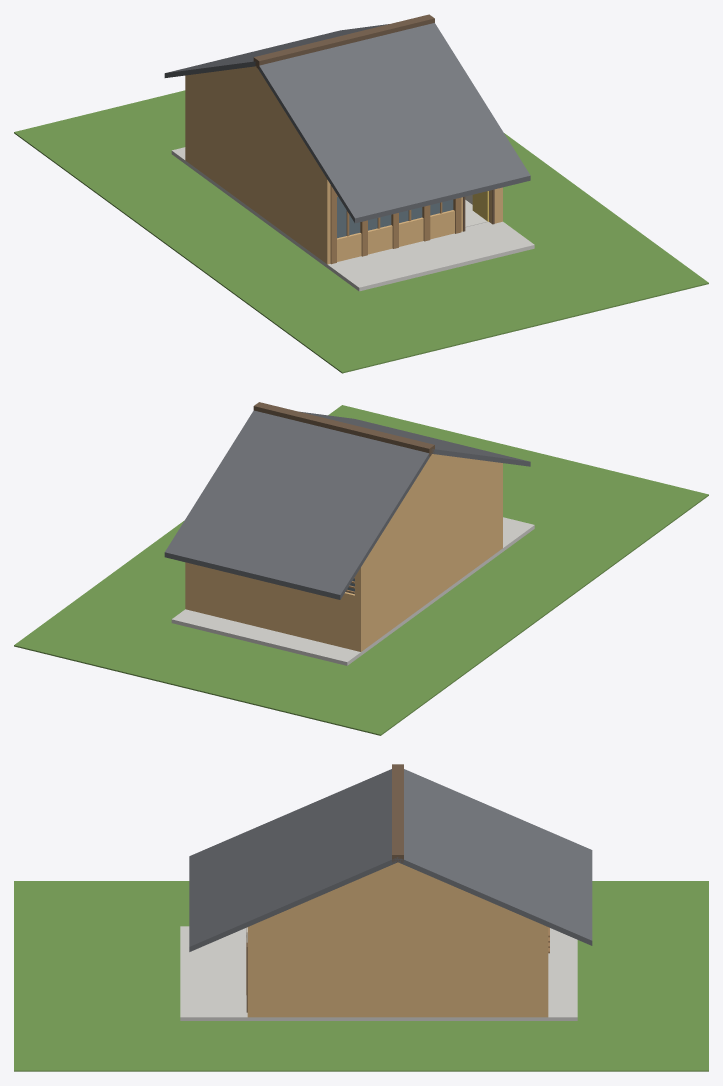
Rendered from sala_sistemas2.glb.
3 views of the same model, one above another, from view 1: azimuth 30°, elevation 25°; view 2: azimuth 150°, elevation 25°; view 3: azimuth 270°, elevation 25° (orthographic). The views are drawn at different scales.
Parts seen in each view (by area): view 1: Sala de sistemas 2; view 2: Sala de sistemas 2; view 3: Sala de sistemas 2.
Boxes of the visible parts, x1=… form: Sala de sistemas 2: x1=14, y1=14, x2=708, y2=373; Sala de sistemas 2: x1=14, y1=402, x2=708, y2=735; Sala de sistemas 2: x1=14, y1=764, x2=708, y2=1071.
Bounding box in the file's own units: 15.35 × 6.33 × 23.8.
